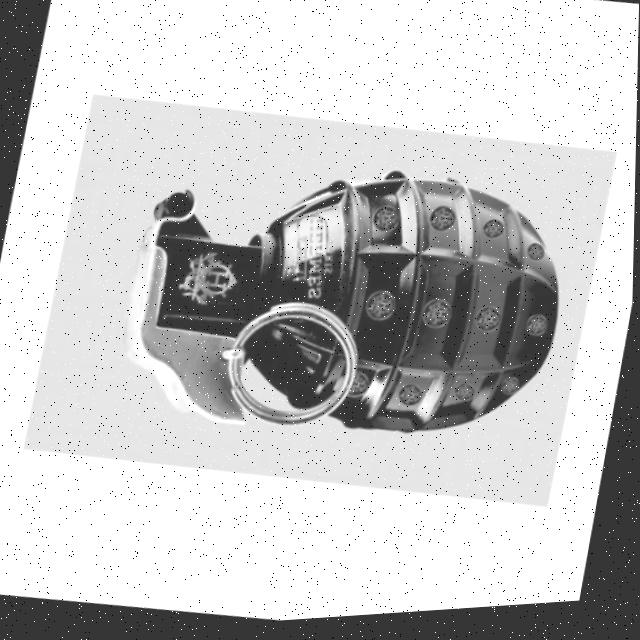grenade: (116, 127, 591, 485)
